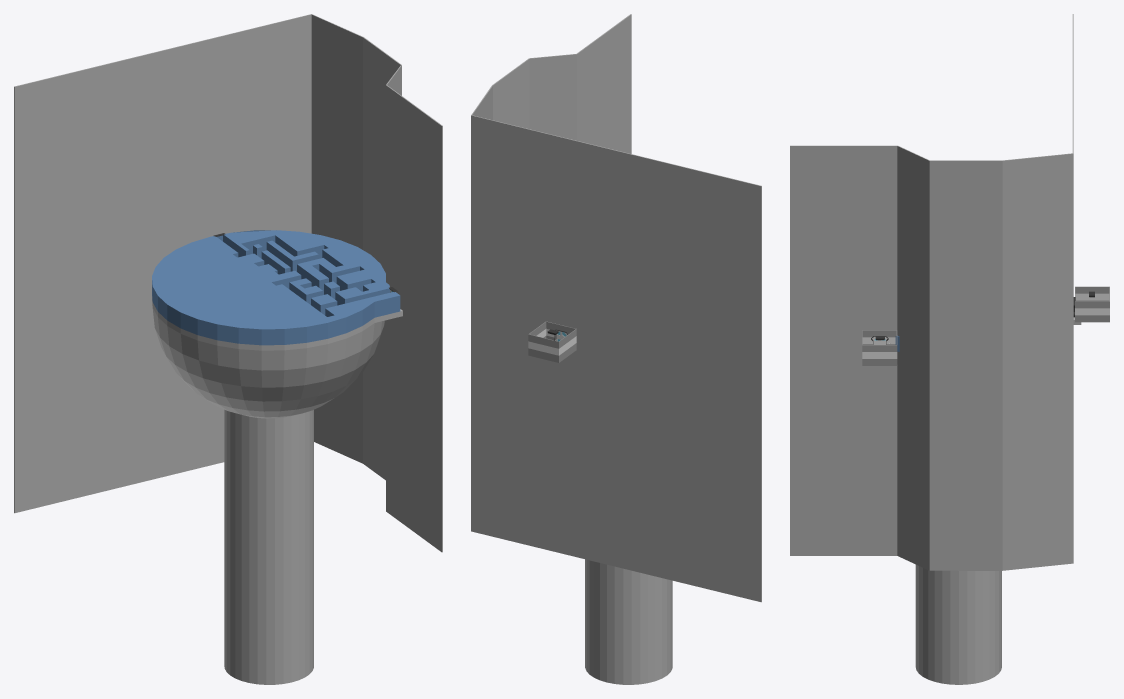
The model's file is Segap 01 16 Maze 2.fbx.
3 renders of one model, left to right at view 1: azimuth 30°, elevation 25°; view 2: azimuth 150°, elevation 25°; view 3: azimuth 270°, elevation 25°, orthographic. The views are drawn at different scales.
Parts seen in each view (by area): view 1: Plane.040, Sphere.010, Plane.036; view 2: Plane.040, Sphere.010, Plane.028; view 3: Plane.040, Sphere.010, Plane.028, Plane.038.
Boxes of the visible parts, bbox=[...] form: Plane.040: bbox=[14, 14, 442, 552]; Sphere.010: bbox=[152, 296, 402, 684]; Plane.036: bbox=[152, 230, 400, 345]; Plane.040: bbox=[471, 14, 761, 602]; Sphere.010: bbox=[585, 559, 672, 684]; Plane.028: bbox=[528, 321, 576, 362]; Plane.040: bbox=[790, 14, 1073, 570]; Sphere.010: bbox=[915, 317, 1081, 684]; Plane.028: bbox=[1075, 286, 1109, 322]; Plane.038: bbox=[862, 330, 897, 365].
Size of the model in its own units: 6148 by 11100 by 5658.
